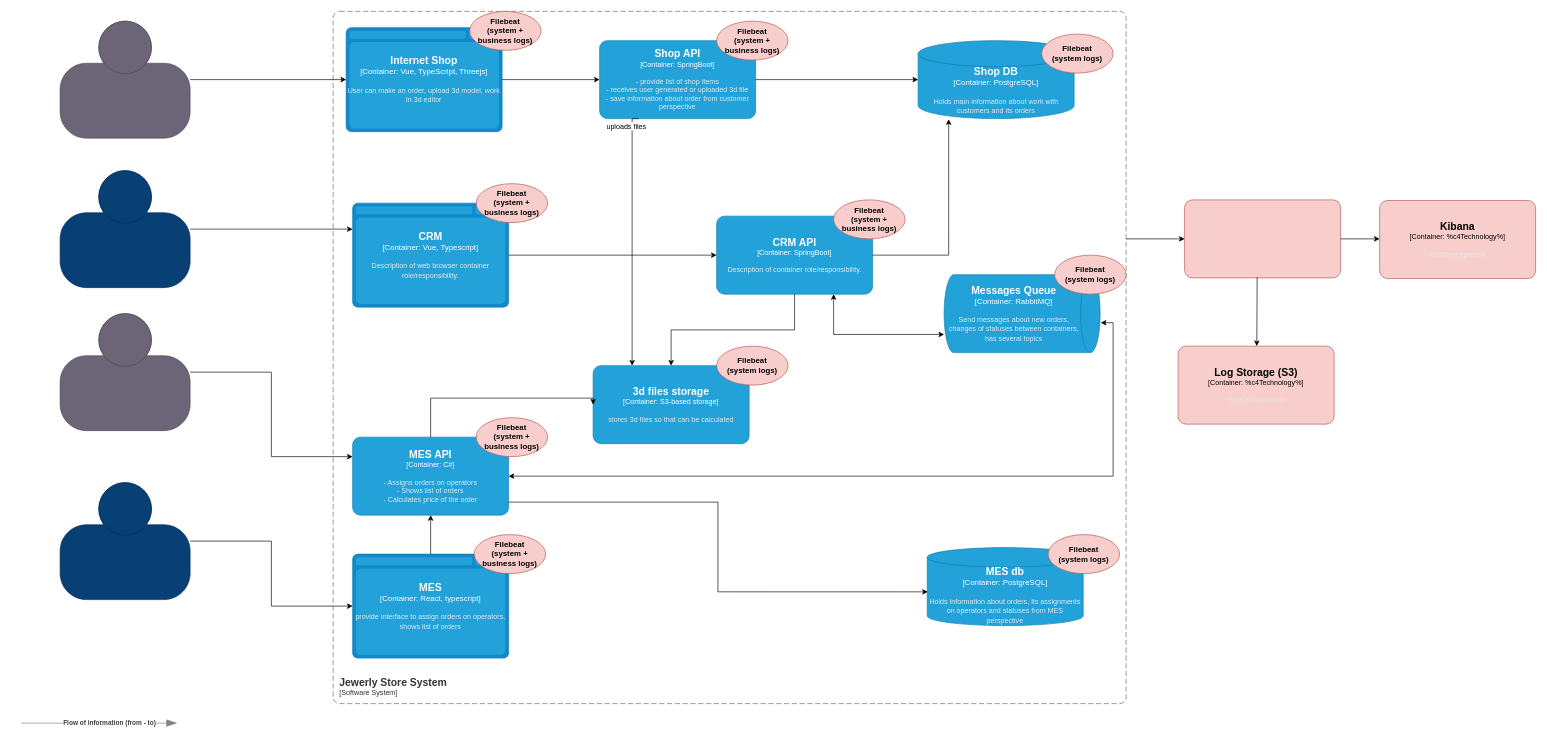
Image size: 1547x745. Some labels were removed from this diagram. The centre of each missing label's shape, as x and y in pixels:
API user [Person] Description of external person.: the point at 124,372
Customer [Person] Description of external person.: the point at 124,79
ElasticSearch [Container: %c4Technology%] %c4Description%: the point at 1262,238
Operator [Person] Takes order in work, manufactures jewerly: the point at 124,541
Seller [Person] Operates with order, confirms manufacturing for the user: the point at 124,229
